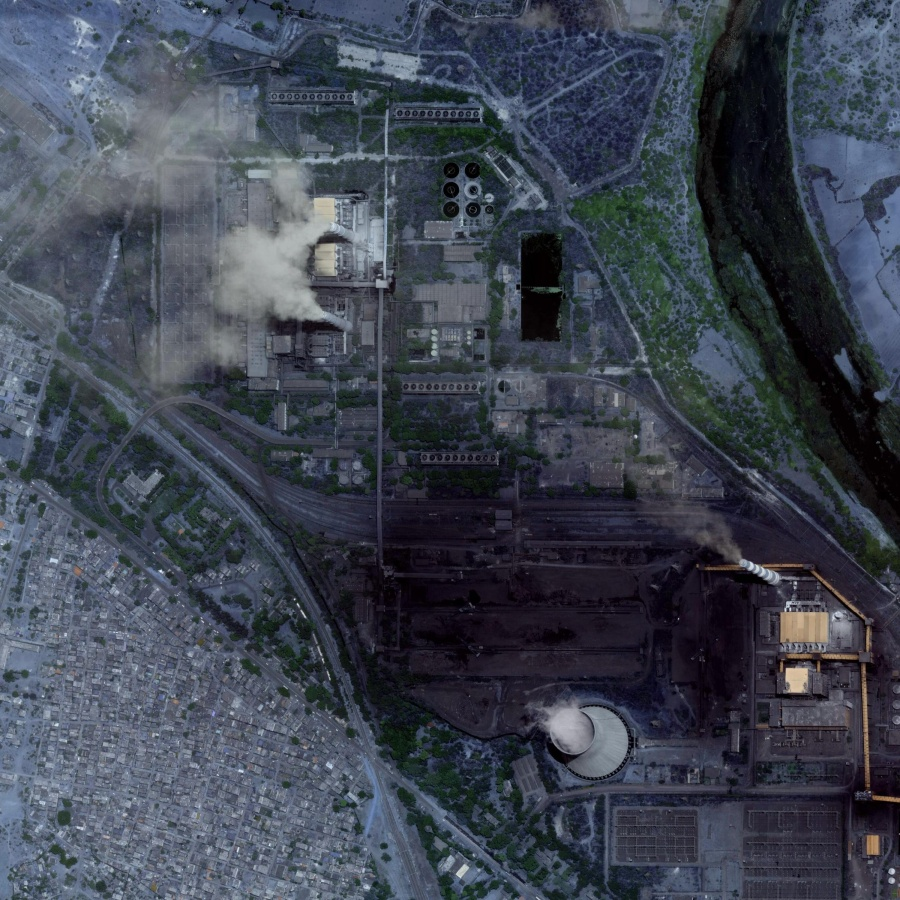PowerPlant: (348, 458, 841, 812), (163, 82, 435, 402)
